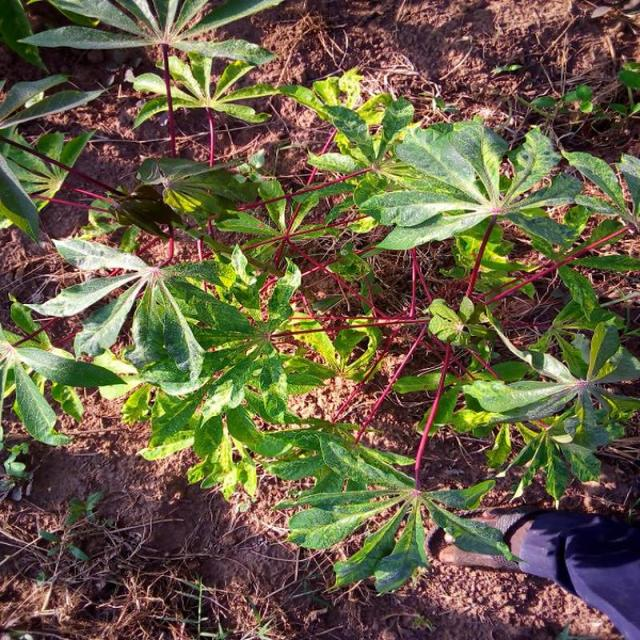cassava leaf: (358, 115, 582, 258)
